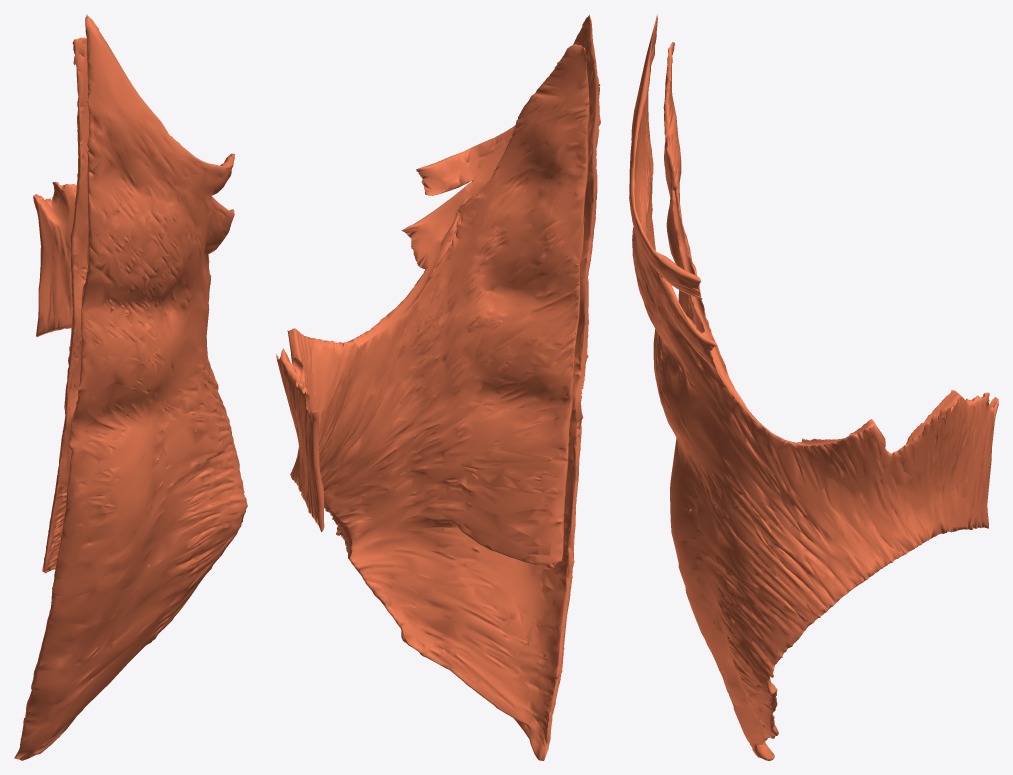
The model's file is Internal_abdominal_oblique.l_Generated_Mesh_From_X3D.456.glb.
The picture shows the model from 3 angles, left to right: view 1: azimuth 30°, elevation 25°; view 2: azimuth 150°, elevation 25°; view 3: azimuth 270°, elevation 25°; orthographic projection. The views are drawn at different scales.
Parts seen in each view (by area): view 1: Internal_abdominal_oblique.l_Generated_Mesh_From_X3D.456; view 2: Internal_abdominal_oblique.l_Generated_Mesh_From_X3D.456; view 3: Internal_abdominal_oblique.l_Generated_Mesh_From_X3D.456.
Boxes of the visible parts, x1=… form: Internal_abdominal_oblique.l_Generated_Mesh_From_X3D.456: x1=14, y1=14, x2=247, y2=760; Internal_abdominal_oblique.l_Generated_Mesh_From_X3D.456: x1=276, y1=14, x2=600, y2=760; Internal_abdominal_oblique.l_Generated_Mesh_From_X3D.456: x1=629, y1=14, x2=998, y2=760.
Bounding box in the file's own units: 0.1245 × 0.3917 × 0.1754.
